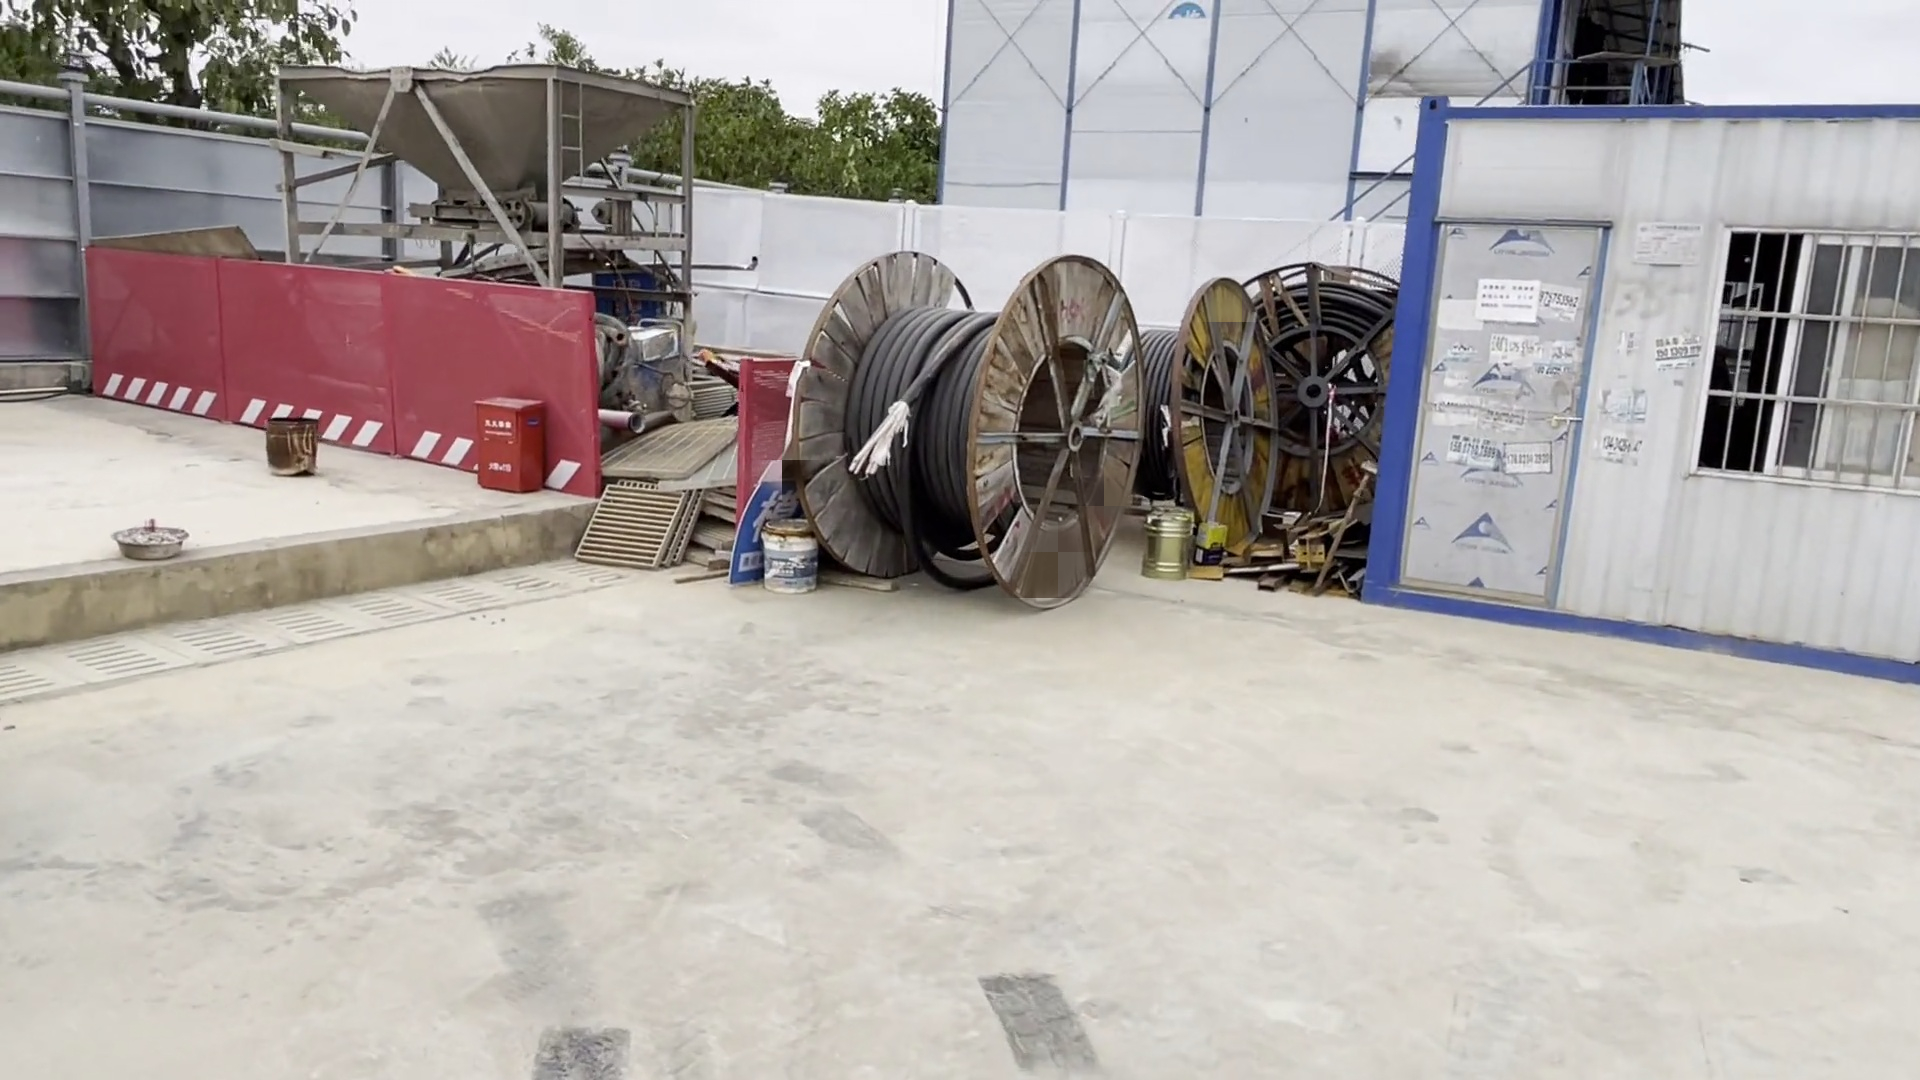fence: (73, 258, 612, 527)
